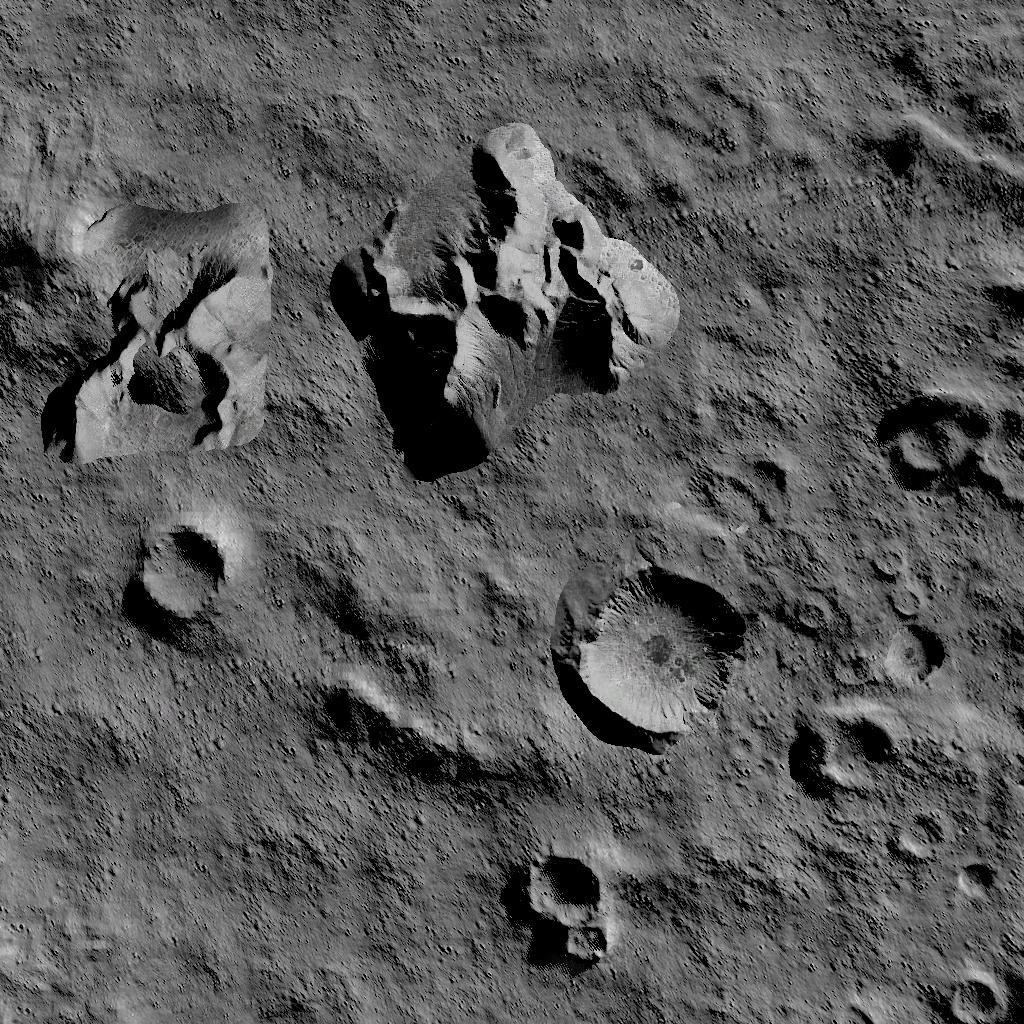Boulders: (333, 130, 676, 478), (1, 186, 285, 468)
Crater: (570, 562, 748, 748), (874, 384, 1024, 512), (520, 846, 615, 964), (136, 516, 232, 624), (800, 698, 898, 788), (931, 952, 1024, 1024), (872, 618, 951, 687), (885, 810, 943, 857), (958, 852, 1002, 896), (786, 594, 830, 632)
Plan surface: (3, 640, 338, 1024), (343, 0, 1024, 114), (3, 0, 325, 176), (691, 126, 845, 463), (351, 756, 506, 1024)
